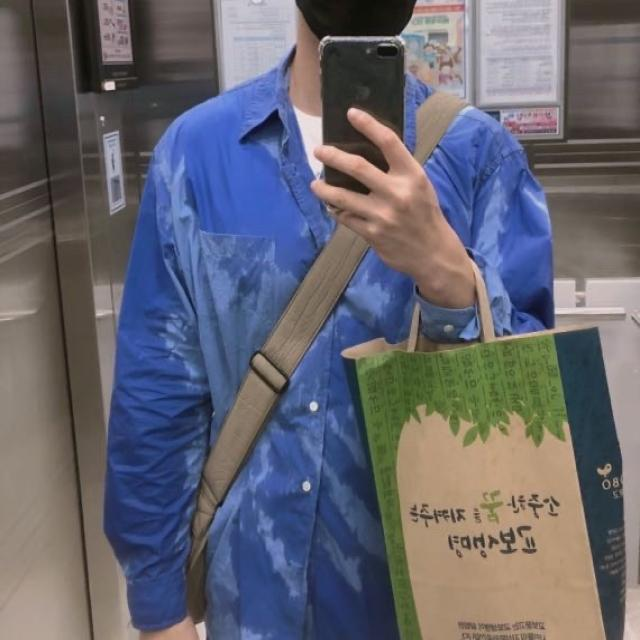shirt: (100, 55, 564, 620)
